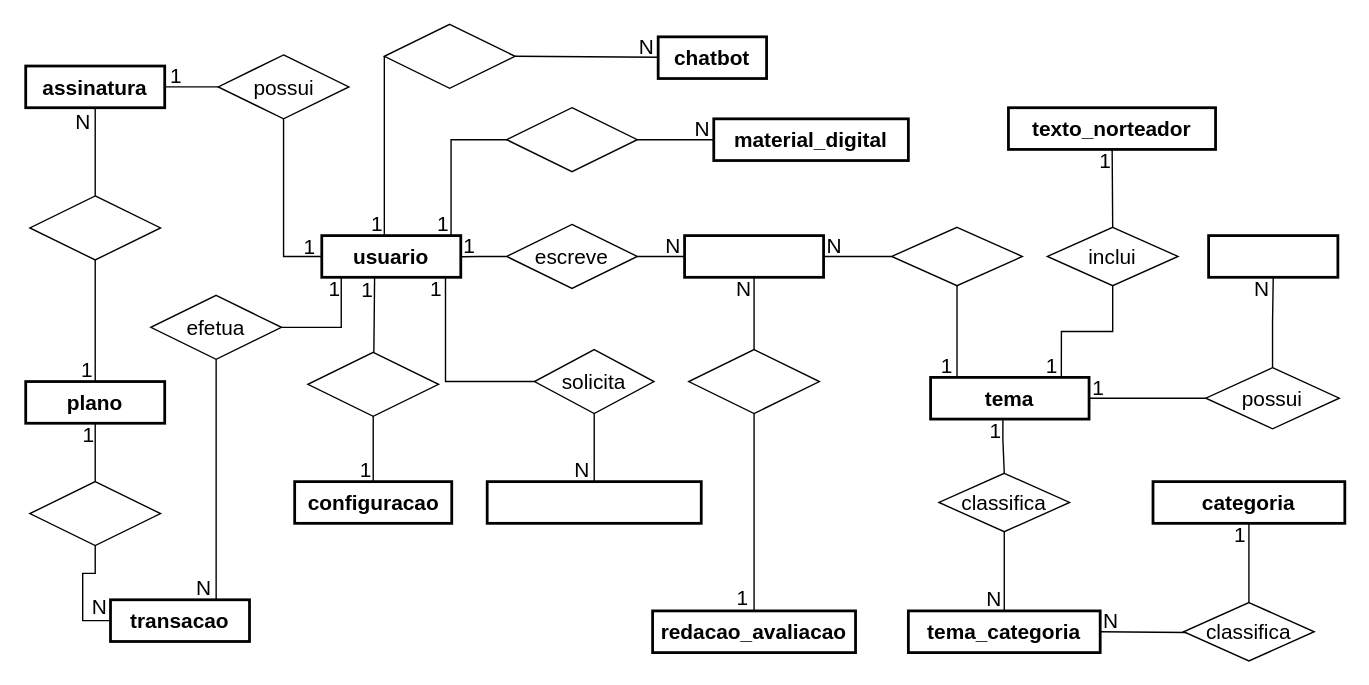
Some shapes in this 1369 by 685 pixel diagram are drawn without their labels. The centre of each missing label's shape, as x and y in pixels:
"aborda" belongs at (x=956, y=256).
"avalia" belongs at (x=753, y=381).
"interage" belongs at (x=449, y=55).
"modelo" belongs at (x=1273, y=256).
"personaliza" belongs at (x=372, y=383).
"recuperacao_senha" belongs at (x=593, y=502).
"redacao" belongs at (x=753, y=256).
"utiliza" belongs at (x=94, y=227).
"visualiza" belongs at (x=571, y=139).
"é pago por" belongs at (x=94, y=513).
